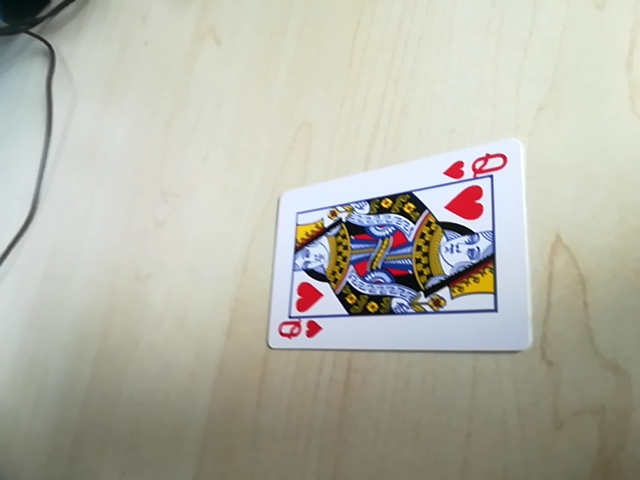hx q: (439, 150, 511, 184), (272, 317, 323, 346)
